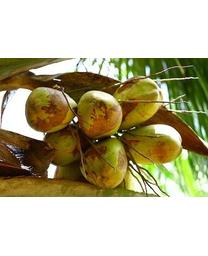coconut: (24, 85, 77, 136), (78, 135, 127, 188), (115, 75, 163, 126), (76, 91, 125, 139), (126, 126, 183, 164), (38, 125, 81, 169)
